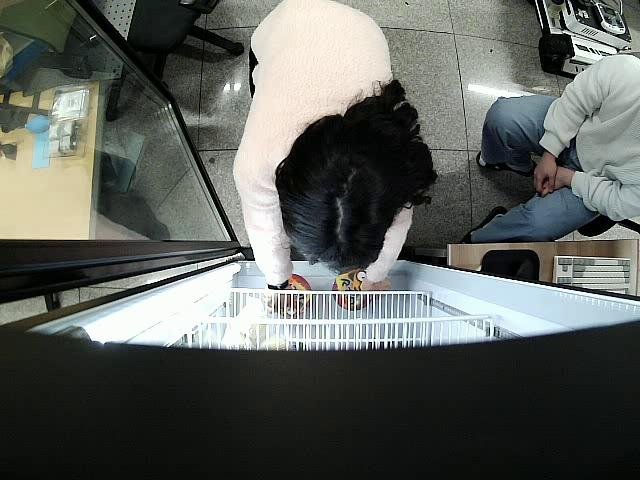00_hand: (531, 153, 557, 196)
05_nuguri_L: (277, 274, 314, 320), (330, 271, 372, 310)
